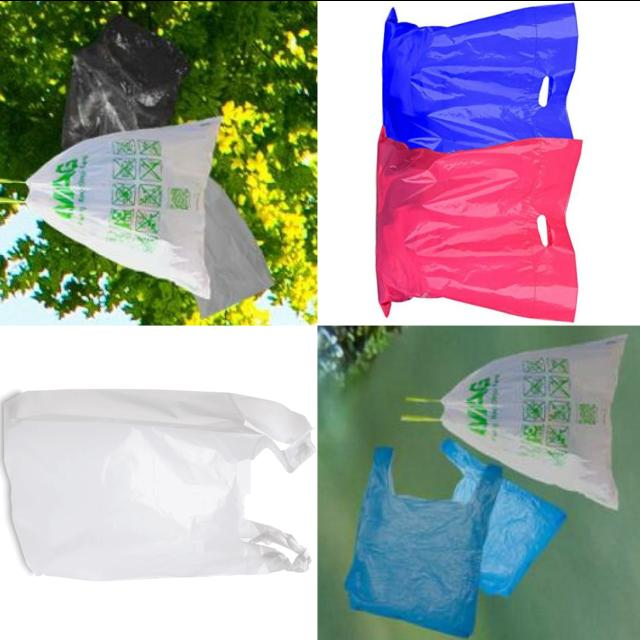plastik: (4, 389, 314, 580), (401, 333, 626, 509), (377, 129, 582, 321), (25, 116, 221, 297), (345, 446, 500, 636), (383, 2, 578, 152), (439, 432, 577, 612), (62, 16, 189, 148), (197, 177, 273, 317)
